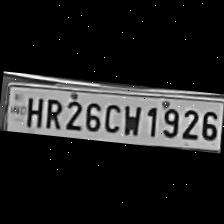1: (140, 102, 162, 138)
2: (177, 104, 200, 140), (62, 95, 84, 131)
6: (197, 105, 220, 141), (81, 97, 102, 132)
9: (158, 102, 181, 138)
C: (100, 98, 121, 134)
H: (22, 92, 44, 128)
R: (40, 93, 64, 130)
W: (119, 100, 144, 138)
